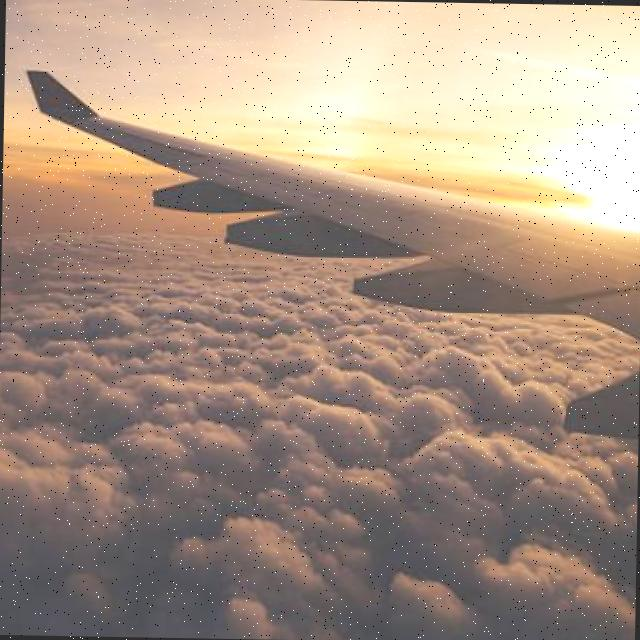Ac: (1, 316, 546, 619)
